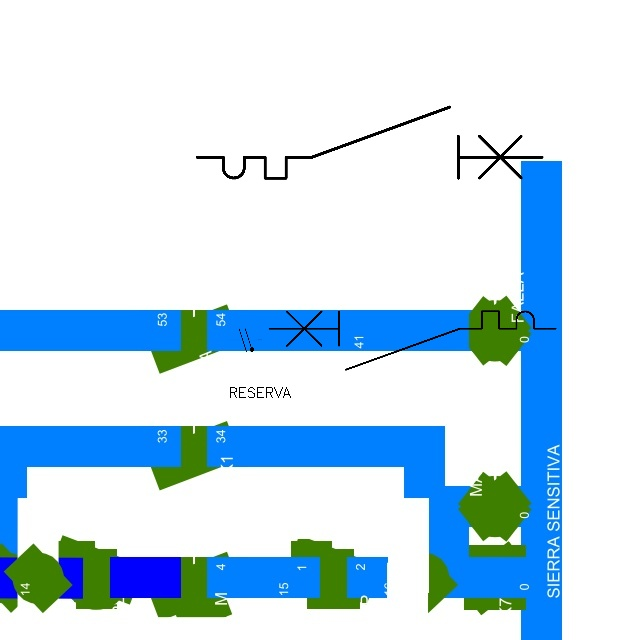interruptor_termomagnetico: (188, 98, 551, 187), (262, 304, 563, 377)
